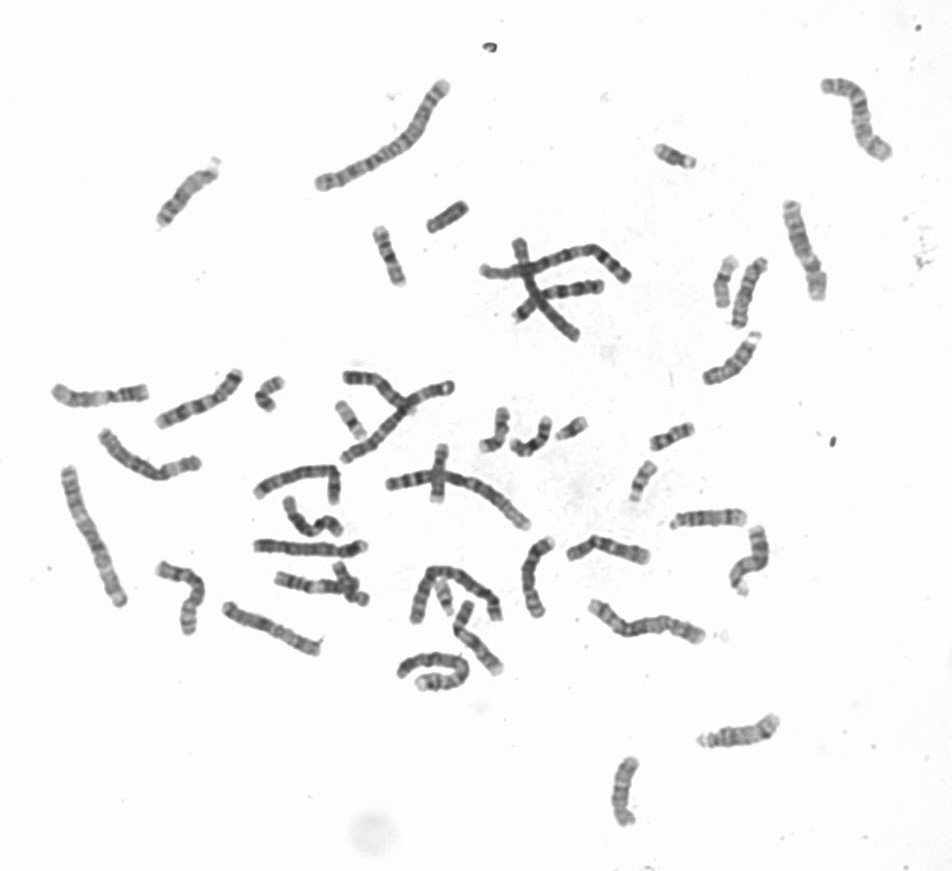chromosomes: (305, 82, 455, 198), (54, 461, 137, 619), (337, 379, 466, 466), (377, 468, 542, 532), (804, 74, 898, 170), (512, 235, 586, 349), (480, 241, 639, 294), (143, 366, 253, 431), (588, 595, 712, 652), (405, 562, 505, 632), (94, 427, 205, 489), (149, 151, 234, 230), (220, 599, 325, 662), (783, 195, 835, 309), (508, 275, 609, 325), (149, 553, 207, 640), (451, 595, 510, 678), (603, 748, 655, 835), (337, 365, 420, 418), (696, 708, 792, 753), (249, 465, 344, 510), (389, 647, 474, 697), (43, 374, 153, 411), (697, 333, 762, 390), (277, 495, 353, 543), (259, 567, 365, 599), (724, 521, 771, 592), (520, 533, 556, 624), (730, 251, 769, 332), (561, 534, 662, 564), (249, 538, 368, 563), (329, 556, 380, 612), (664, 501, 759, 531), (706, 246, 743, 318), (367, 228, 408, 290), (647, 143, 705, 180), (511, 412, 553, 462), (639, 421, 698, 454), (475, 405, 513, 456), (621, 459, 658, 510), (425, 201, 476, 236), (428, 442, 452, 508), (253, 373, 288, 414), (429, 573, 458, 622), (334, 402, 369, 440), (554, 415, 591, 450)
